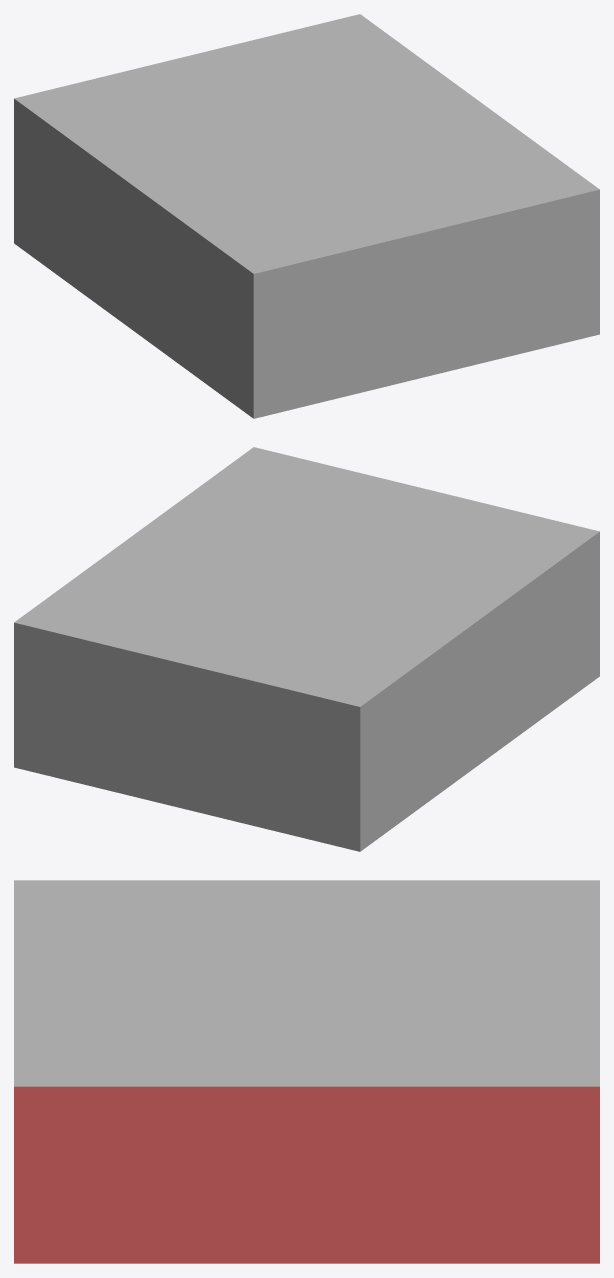
3 views of the same model, one above another, from view 1: azimuth 30°, elevation 25°; view 2: azimuth 150°, elevation 25°; view 3: azimuth 270°, elevation 25° (orthographic). The views are drawn at different scales.
Parts seen in each view (by area): view 1: 7-1.SLDPRT; view 2: 7-1.SLDPRT; view 3: 7-1.SLDPRT.
Part boxes in pixels (box(x1,y1,x2,y2)): 7-1.SLDPRT: box(14, 14, 599, 418); 7-1.SLDPRT: box(14, 447, 599, 851); 7-1.SLDPRT: box(14, 880, 599, 1263).
Size of the model in its own units: 0.05 by 0.02 by 0.06.
